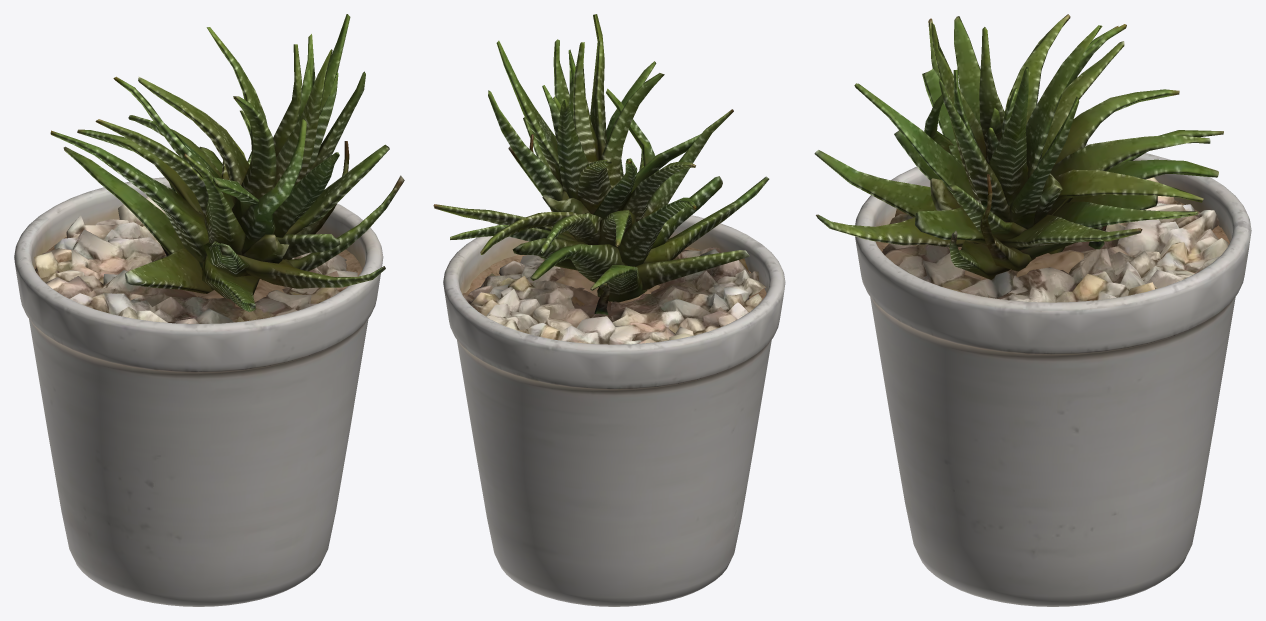
The model's file is potted-succulent-medium.glb.
The picture shows the model from 3 angles, left to right: view 1: azimuth 30°, elevation 25°; view 2: azimuth 150°, elevation 25°; view 3: azimuth 270°, elevation 25°; orthographic projection. The views are drawn at different scales.
Parts seen in each view (by area): view 1: potted_plant_04_pot, potted_plant_04_plant, potted_plant_04_ground, potted_plant_04_dirt; view 2: potted_plant_04_pot, potted_plant_04_plant, potted_plant_04_ground, potted_plant_04_dirt; view 3: potted_plant_04_pot, potted_plant_04_plant, potted_plant_04_ground, potted_plant_04_dirt.
Part boxes in pixels (x1,y1,x2,y2): potted_plant_04_pot: [14, 177, 383, 606]; potted_plant_04_plant: [50, 14, 404, 311]; potted_plant_04_ground: [34, 196, 357, 323]; potted_plant_04_dirt: [34, 236, 362, 307]; potted_plant_04_pot: [443, 215, 785, 606]; potted_plant_04_plant: [433, 14, 769, 315]; potted_plant_04_ground: [463, 247, 766, 344]; potted_plant_04_dirt: [462, 246, 766, 306]; potted_plant_04_pot: [855, 144, 1251, 606]; potted_plant_04_plant: [814, 14, 1223, 279]; potted_plant_04_ground: [882, 177, 1228, 302]; potted_plant_04_dirt: [876, 200, 1229, 297].
Bounding box in the file's own units: 0.1679 × 0.2672 × 0.1848.
1 material, 1 textured.
